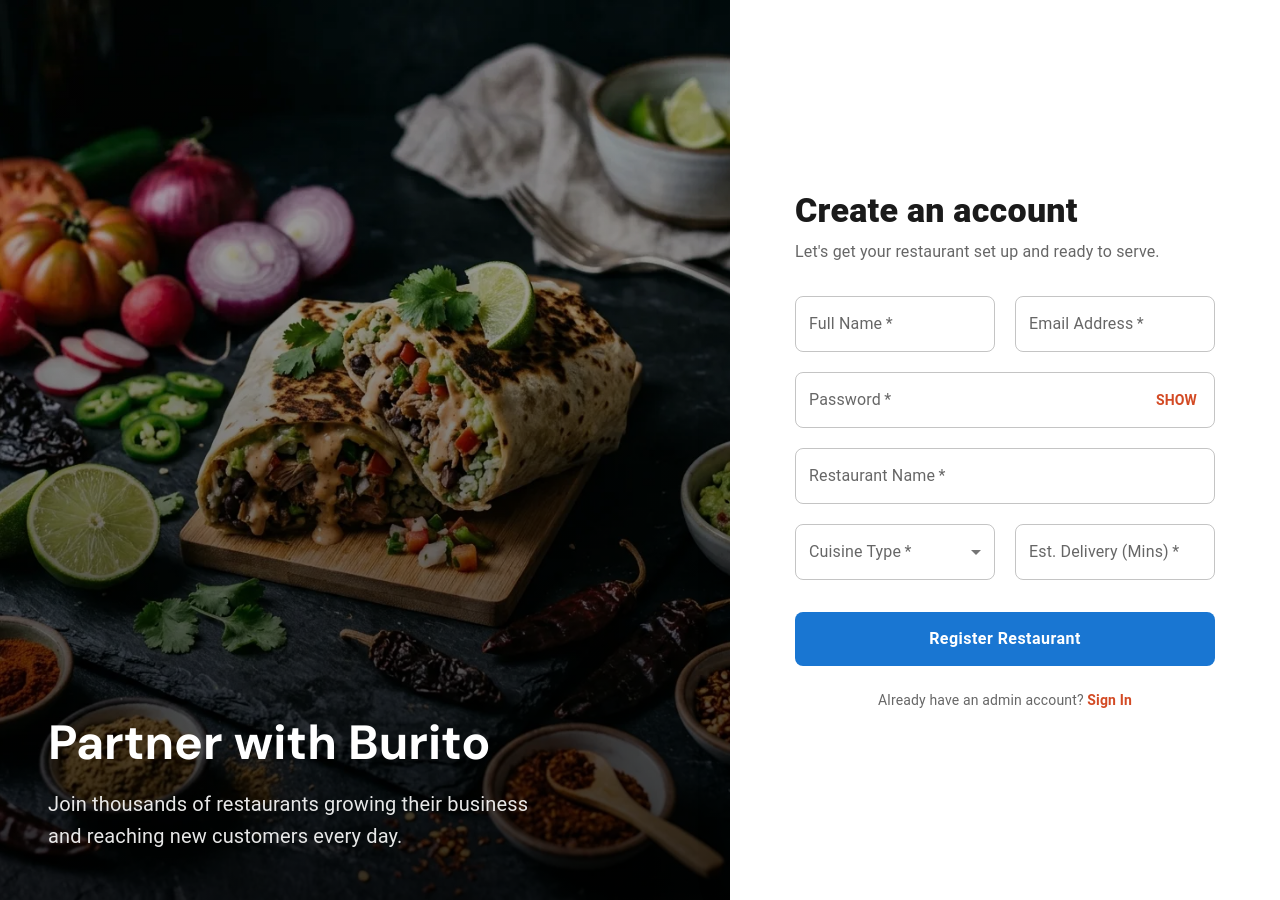
Test: AdminRegisterPage › displays error on failed registration
In the field labelled "Full Name *": (895, 324) [795,296,995,352], type "John"
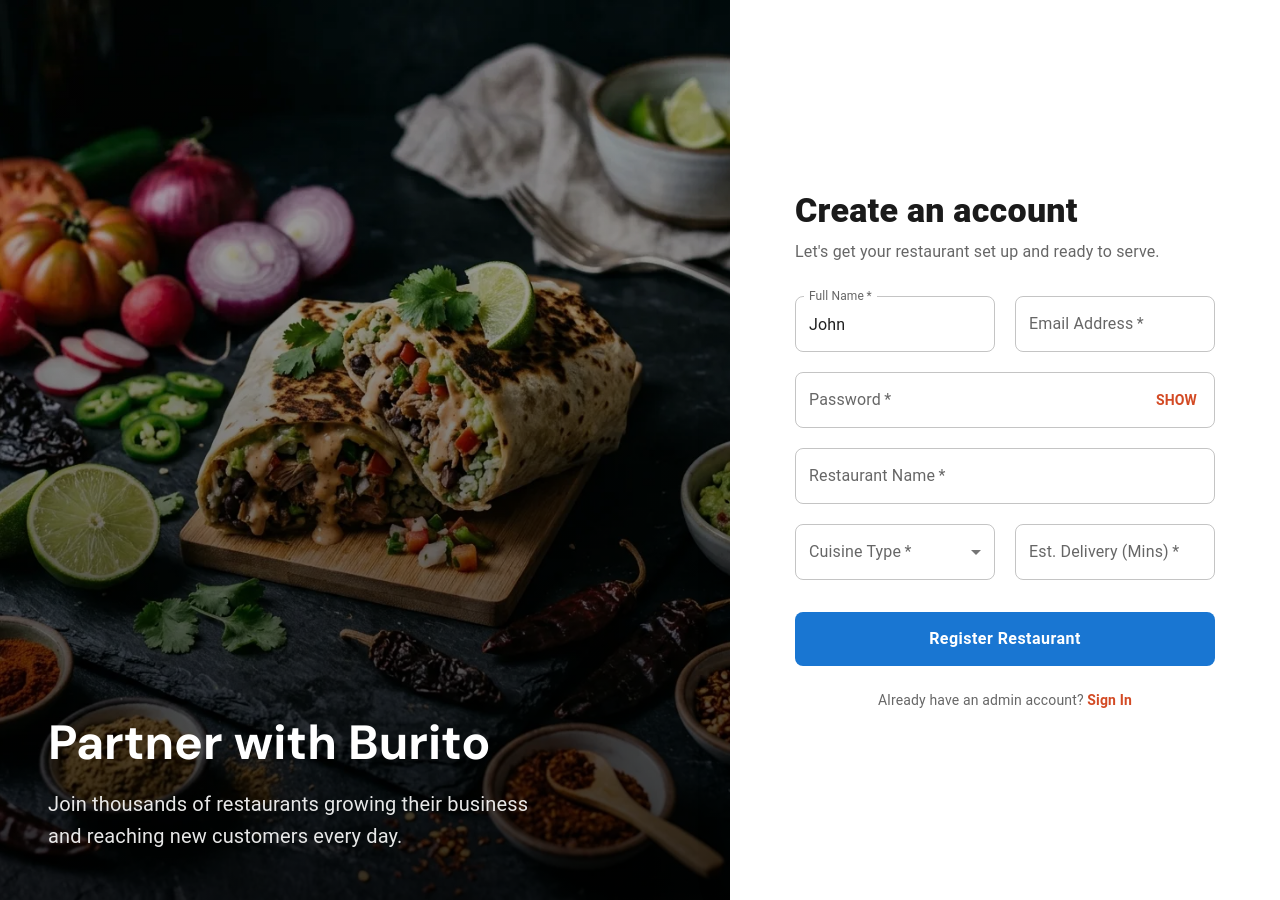
In the field labelled "Email Address *": (1115, 324) [1015,296,1215,352], type "admin@test.com"
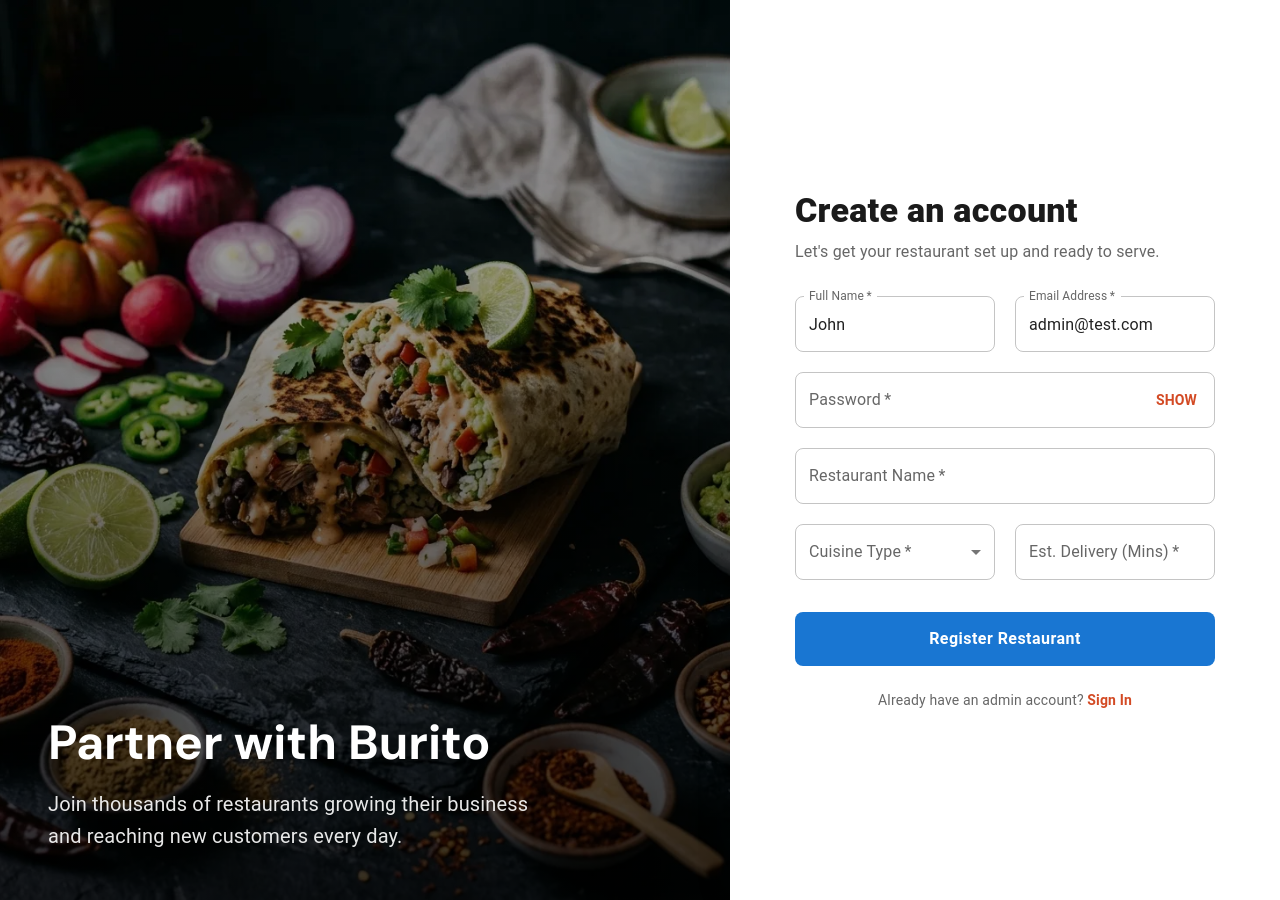
In the password field labelled "Password *": (968, 400) [795,372,1140,428], type "password123"
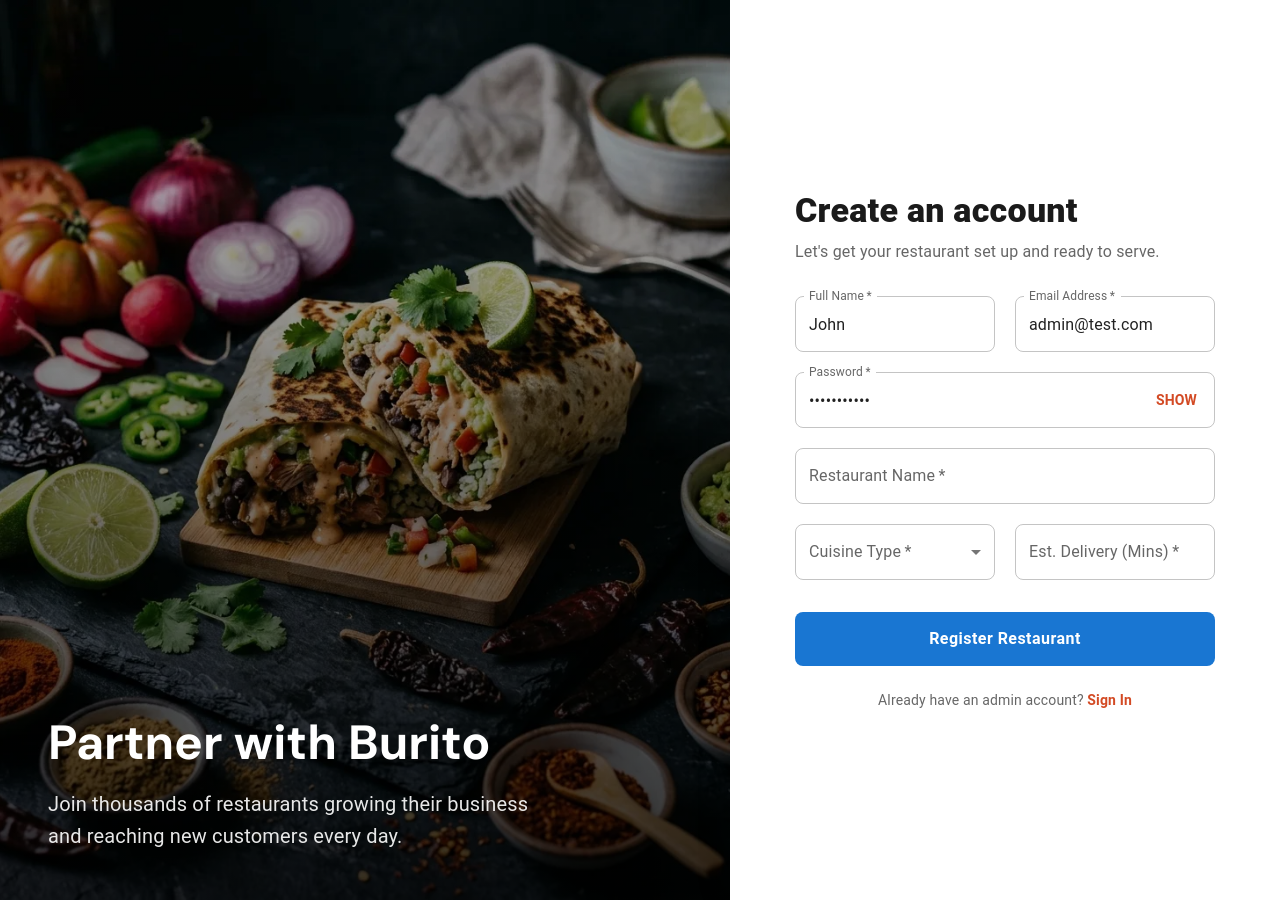
In the field labelled "Restaurant Name *": (1005, 476) [795,448,1215,504], type "My Resto"
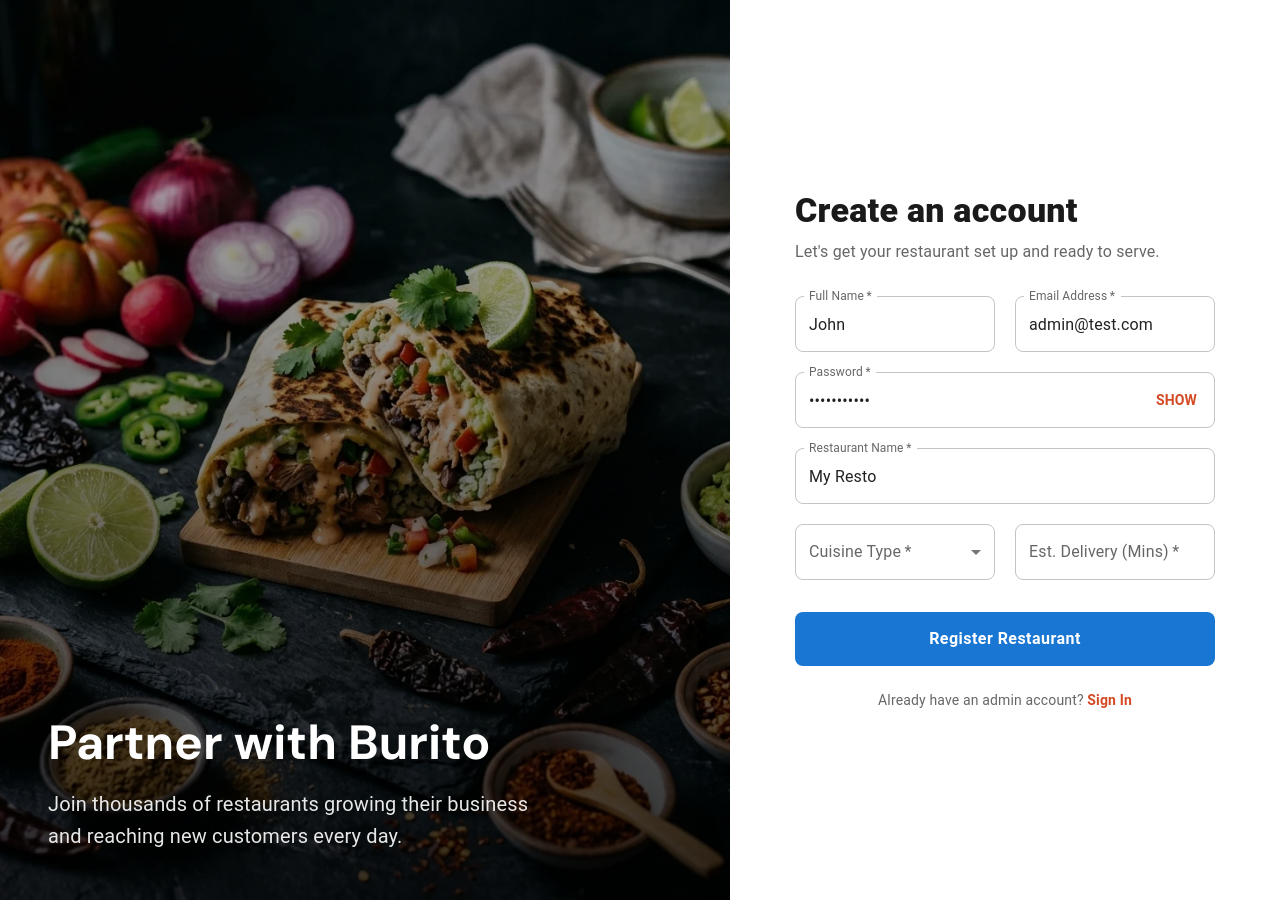
In the number field labelled "Est. Delivery (Mins) *": (1115, 552) [1015,524,1215,580], type "30"
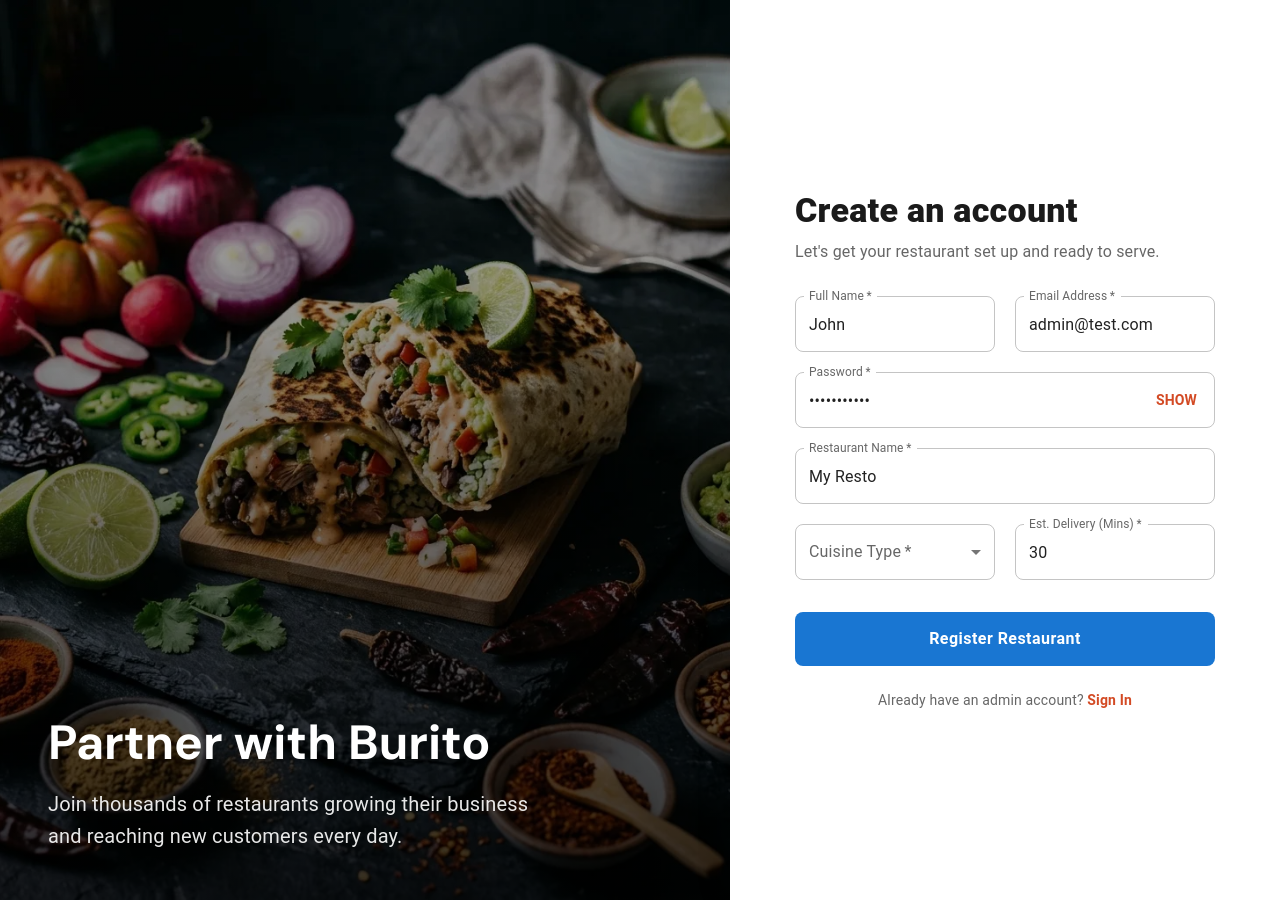
Submit the form named "Register Restaurant", box [795,296,1215,710]
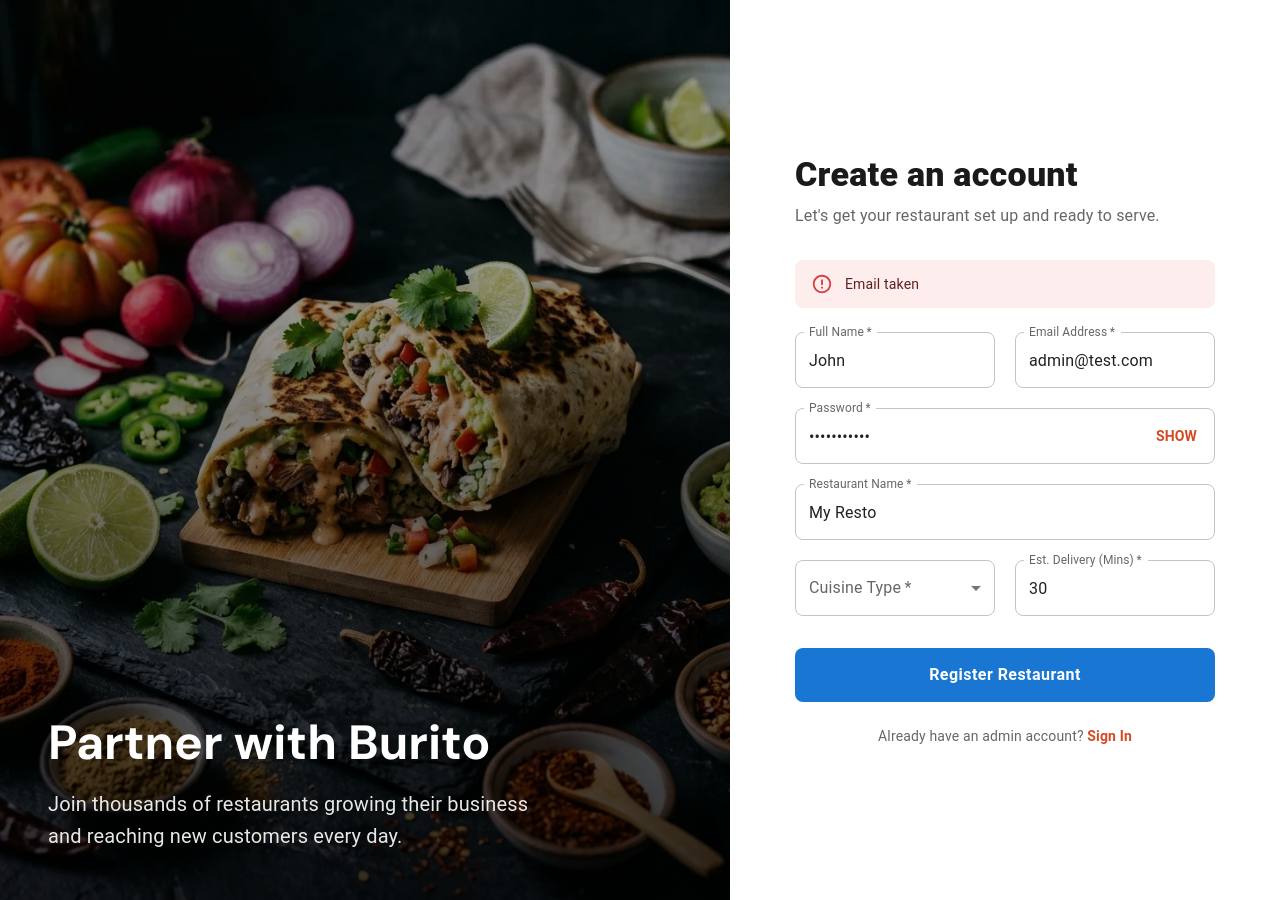
Now the text "Email taken" is shown, box [845,276,919,292]
